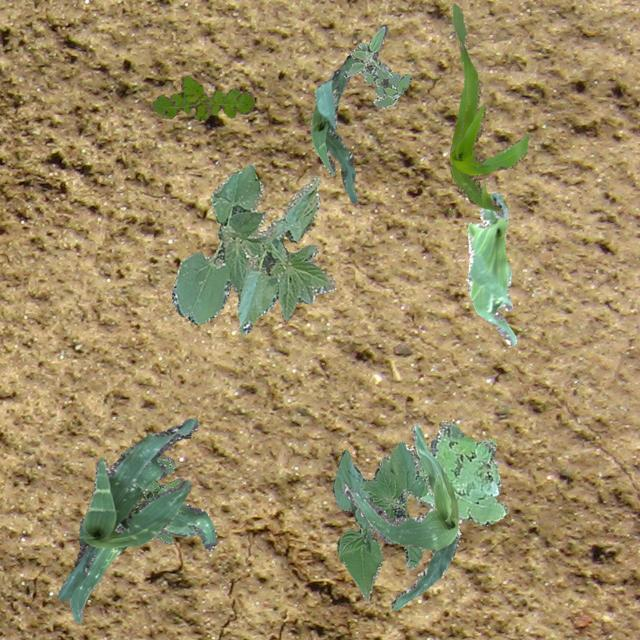crop: (170, 162, 336, 332), (56, 418, 198, 598), (342, 424, 461, 608), (68, 499, 215, 622), (448, 2, 528, 210), (332, 440, 426, 600), (466, 192, 516, 344), (309, 54, 356, 202)
weed: (378, 420, 508, 524), (342, 23, 411, 108), (150, 74, 254, 119), (142, 454, 182, 544)
